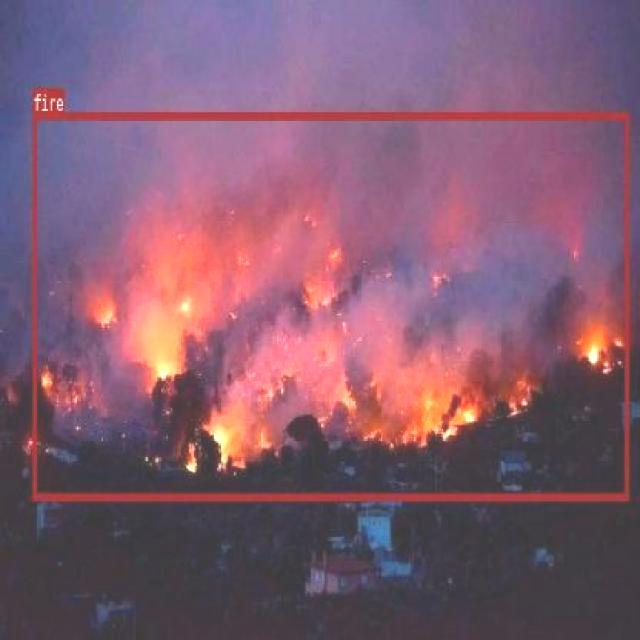fire: (32, 110, 628, 498)
